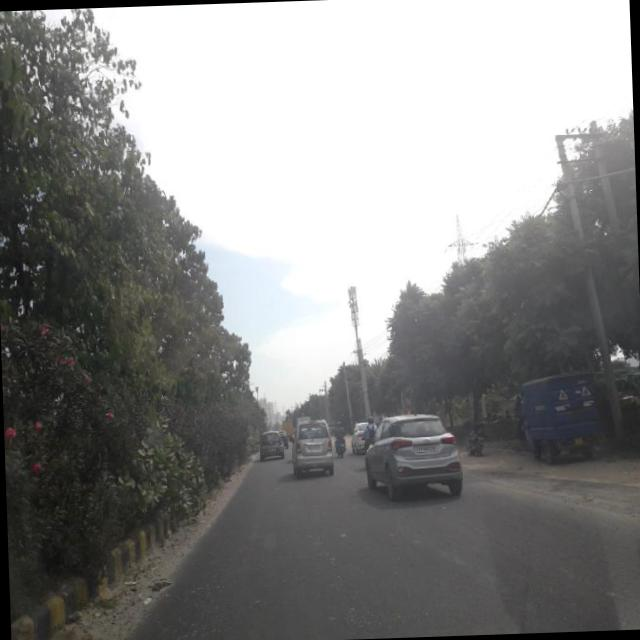crack: (150, 484, 640, 640)
